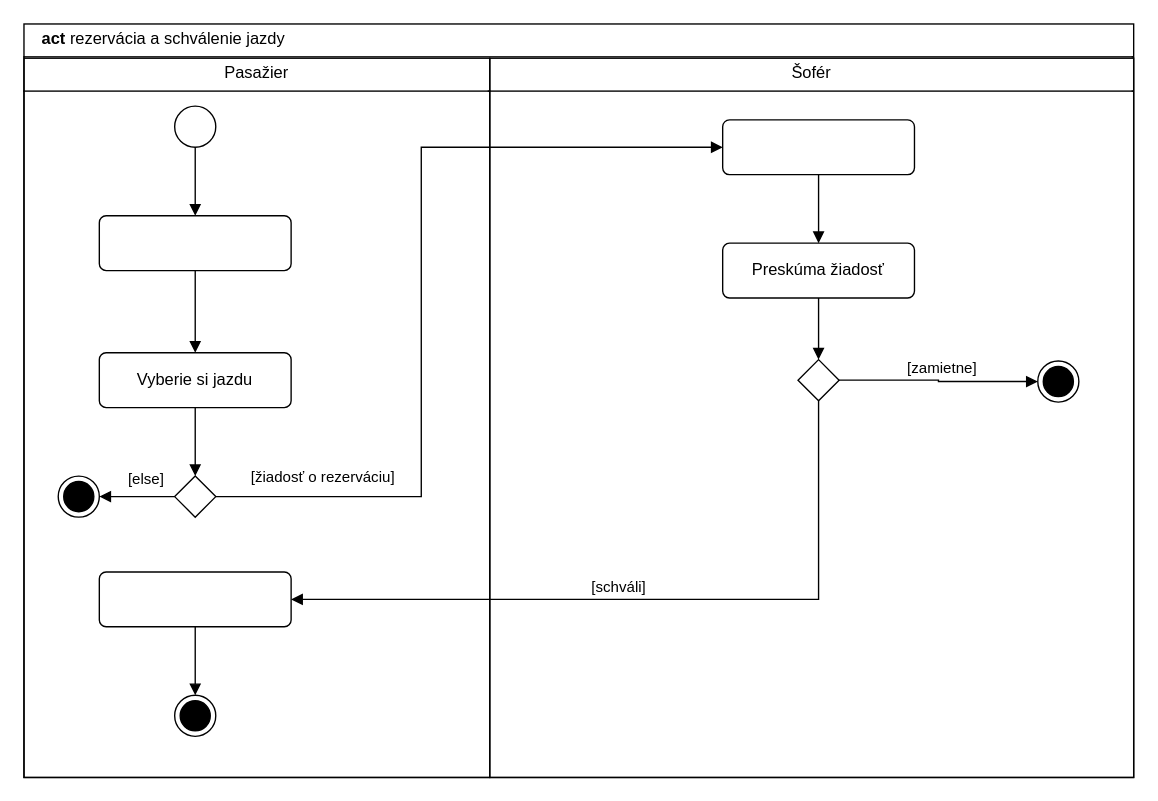
Image size: 1158x801. Some labels were removed from this diagram. Here are the shapes that lost their labels. From the top down, the centre of each, then its label:
[817,147]: Dostane notifikáciu o novej žiadosti
[194,242]: Pasažier vyhľadá jazdy
[194,599]: Pridaný do jazdy
